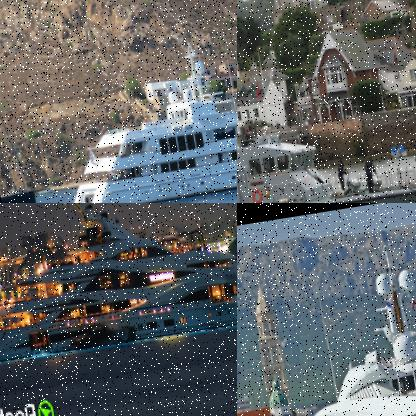Patrol Boat: (237, 14, 415, 202)
Sails Boat: (0, 53, 54, 202)
Yacht: (0, 203, 236, 370), (237, 212, 415, 415), (47, 15, 236, 202)
